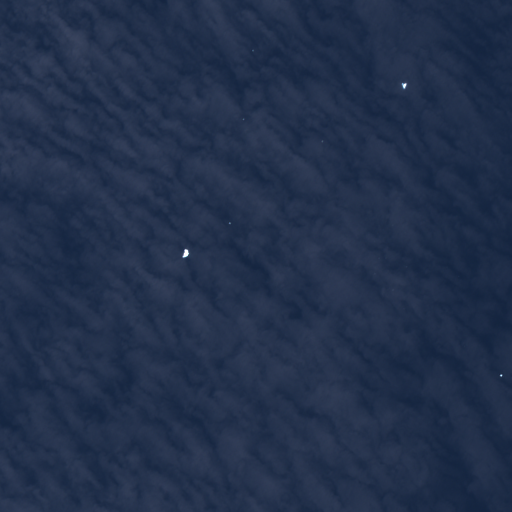Iceberg: (182, 249, 189, 257), (401, 83, 406, 89), (499, 374, 502, 376), (242, 118, 244, 120), (321, 140, 323, 142), (252, 49, 253, 51), (228, 222, 230, 223)
